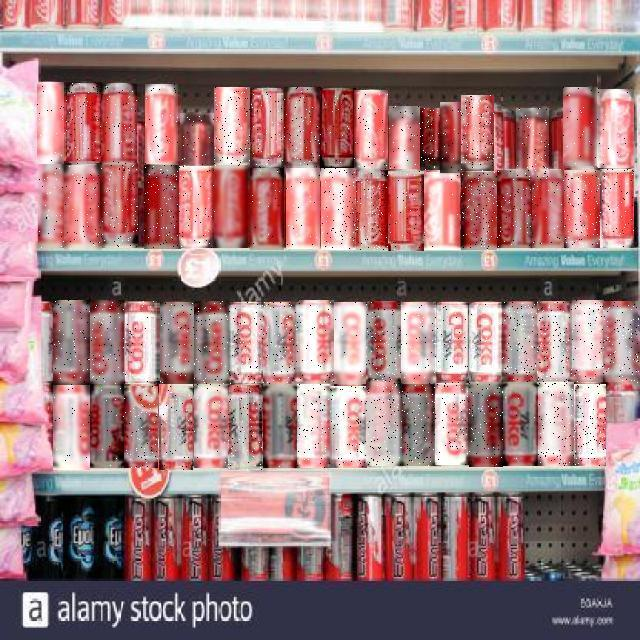Drinks: (64, 165, 102, 250), (100, 164, 138, 248), (53, 300, 90, 385), (53, 385, 90, 470), (144, 165, 181, 249), (195, 301, 231, 387), (298, 300, 334, 386), (264, 302, 300, 386), (263, 384, 299, 468), (298, 384, 334, 468), (503, 382, 539, 466), (538, 382, 574, 466), (401, 383, 437, 466), (366, 383, 402, 466), (538, 301, 574, 384), (284, 88, 321, 168), (229, 302, 265, 384), (366, 302, 402, 384), (502, 302, 538, 384), (604, 302, 640, 384), (67, 82, 103, 164), (180, 167, 216, 249), (194, 384, 229, 468), (159, 384, 193, 470), (91, 300, 125, 385), (229, 385, 263, 470), (469, 382, 503, 467), (388, 171, 424, 251), (101, 84, 137, 164), (215, 88, 251, 168), (321, 89, 357, 169), (564, 88, 600, 168), (90, 384, 124, 468), (598, 89, 634, 168), (126, 301, 160, 384), (425, 172, 461, 250), (461, 172, 497, 250), (565, 170, 601, 248), (250, 168, 284, 250), (322, 168, 356, 250), (125, 386, 159, 468), (161, 302, 195, 384), (334, 302, 368, 384), (333, 386, 367, 468), (402, 302, 436, 384), (435, 302, 469, 384), (436, 383, 470, 465), (469, 302, 503, 384), (216, 167, 250, 249), (286, 168, 320, 249), (497, 170, 532, 248), (355, 170, 389, 250), (146, 84, 180, 164), (251, 89, 285, 169), (355, 90, 389, 170), (600, 169, 634, 248), (574, 385, 606, 467), (532, 170, 565, 248), (573, 301, 604, 383), (461, 95, 494, 171), (39, 164, 67, 248), (38, 82, 66, 164), (516, 108, 549, 177), (389, 106, 420, 169), (181, 113, 215, 167), (440, 102, 462, 173), (420, 108, 442, 170)
